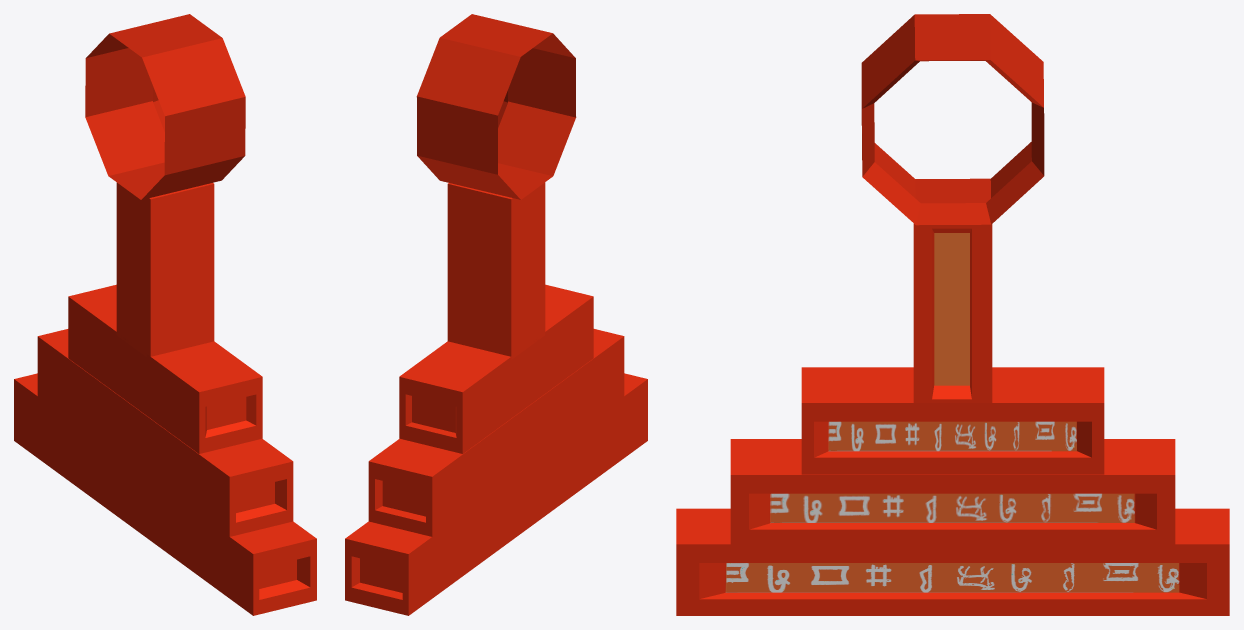
File: Portal (1).fbx
3 renders of one model, left to right at view 1: azimuth 30°, elevation 25°; view 2: azimuth 150°, elevation 25°; view 3: azimuth 270°, elevation 25°, orthographic. The views are drawn at different scales.
Parts seen in each view (by area): view 1: polySurface3, polySurface7, polySurface6, polySurface5, polySurface4; view 2: polySurface3, polySurface7, polySurface6, polySurface5, polySurface4; view 3: polySurface7, polySurface6, polySurface5, polySurface3, polySurface4.
Boxes of the visible parts, left/top/right/bottom form: polySurface3: left=85, top=14, right=245, bottom=199; polySurface7: left=14, top=373, right=316, bottom=615; polySurface6: left=37, top=329, right=293, bottom=537; polySurface5: left=68, top=284, right=262, bottom=453; polySurface4: left=116, top=182, right=214, bottom=357; polySurface3: left=416, top=14, right=576, bottom=199; polySurface7: left=345, top=373, right=647, bottom=615; polySurface6: left=368, top=329, right=624, bottom=536; polySurface5: left=399, top=284, right=593, bottom=453; polySurface4: left=447, top=182, right=545, bottom=359; polySurface7: left=676, top=508, right=1229, bottom=615; polySurface6: left=730, top=439, right=1175, bottom=546; polySurface5: left=801, top=367, right=1104, bottom=474; polySurface3: left=861, top=14, right=1044, bottom=225; polySurface4: left=913, top=223, right=992, bottom=402.
Size of the model in its own units: 1.43 by 8.1 by 7.24.
4 materials, 1 textured.
